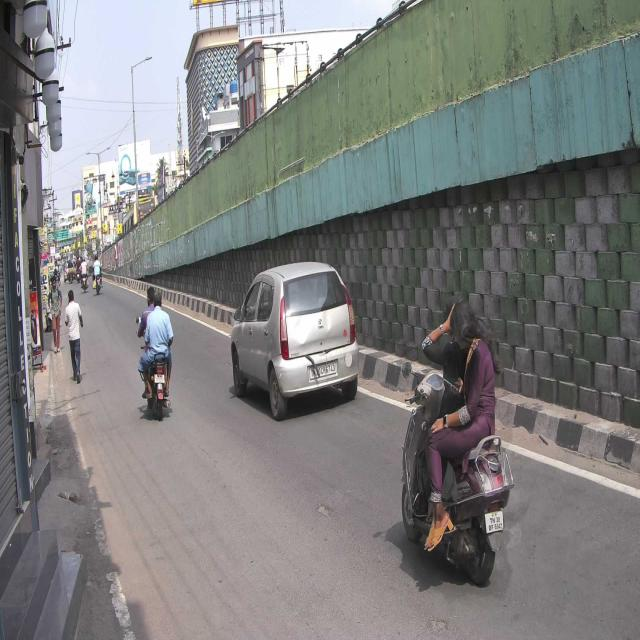double_rider: (399, 294, 514, 586)
